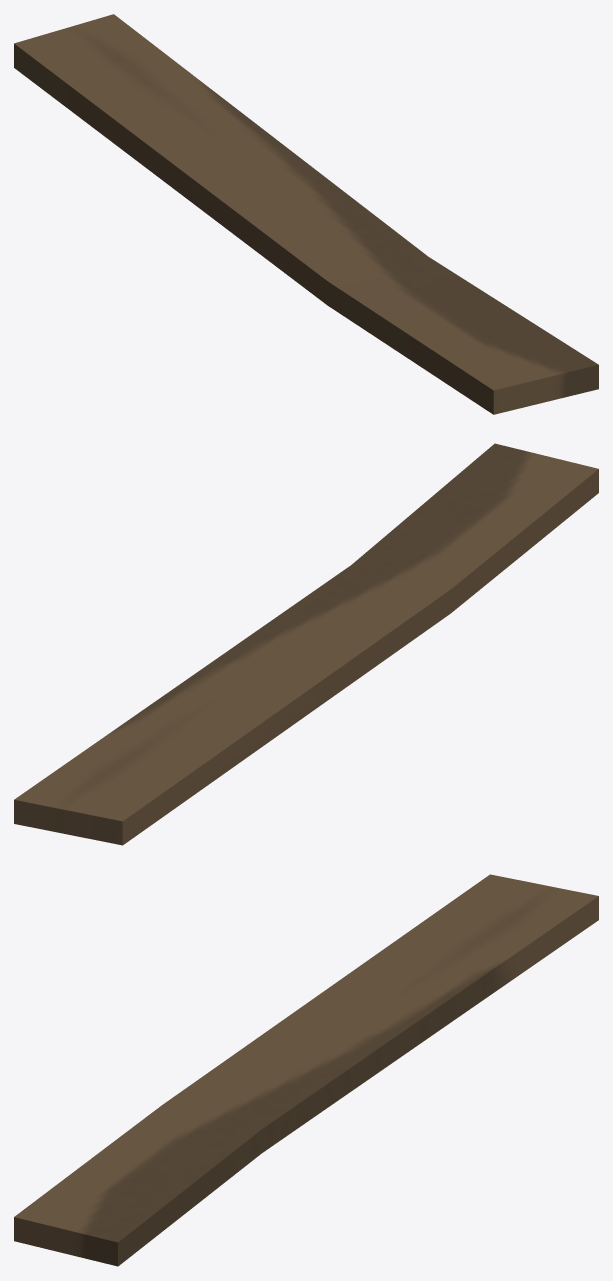
File: SM_Bld_Dock_Plank_03.fbx
3 renders of one model, top to bottom at view 1: azimuth 30°, elevation 25°; view 2: azimuth 150°, elevation 25°; view 3: azimuth 330°, elevation 25°, orthographic.
Parts seen in each view (by area): view 1: SM_Bld_Dock_Plank_03; view 2: SM_Bld_Dock_Plank_03; view 3: SM_Bld_Dock_Plank_03.
Part boxes in pixels (left/top/right/bottom): SM_Bld_Dock_Plank_03: left=14, top=14, right=598, bottom=414; SM_Bld_Dock_Plank_03: left=14, top=443, right=598, bottom=845; SM_Bld_Dock_Plank_03: left=14, top=874, right=598, bottom=1266.
Size of the model in its own units: 34.97 by 8.59 by 258.
1 material, 1 textured.
